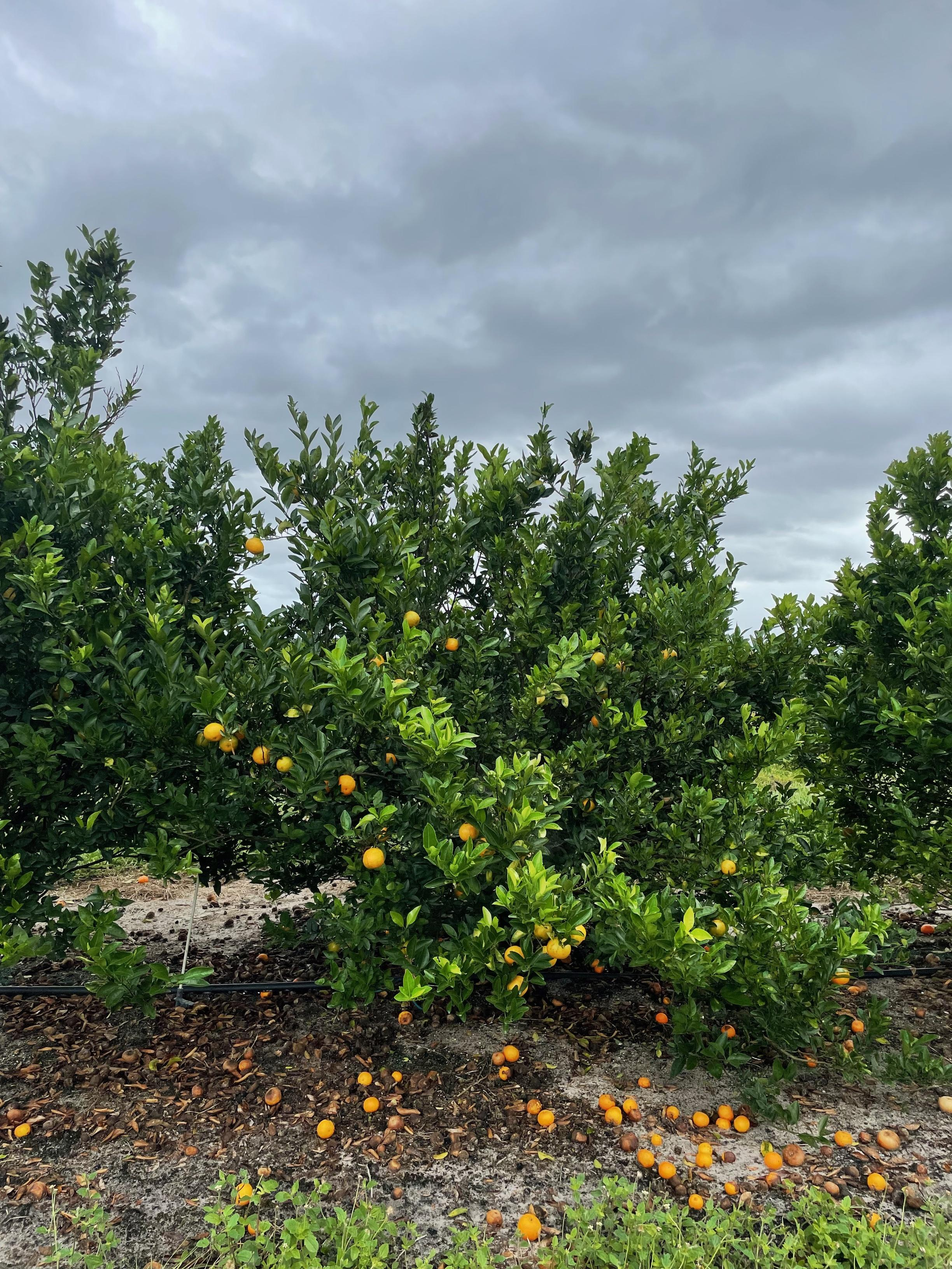fruit_on_ground: (360, 845, 387, 872), (545, 935, 572, 961), (47, 679, 72, 704), (456, 819, 481, 844), (504, 974, 530, 998), (473, 837, 500, 860), (502, 944, 527, 968), (334, 772, 358, 796), (203, 720, 227, 744), (565, 921, 588, 946), (364, 648, 388, 671), (250, 743, 273, 767), (531, 918, 554, 941), (217, 732, 240, 755), (273, 754, 297, 776), (192, 729, 215, 751), (707, 916, 729, 938), (829, 965, 852, 986), (400, 607, 423, 628), (656, 645, 680, 664), (379, 748, 400, 769), (244, 535, 265, 556), (577, 794, 598, 814), (718, 857, 739, 877), (588, 650, 609, 670), (228, 723, 248, 743), (442, 633, 462, 652), (588, 711, 607, 730), (284, 486, 303, 505), (609, 657, 628, 675), (325, 939, 341, 954), (840, 825, 855, 838)
fruit_on_tree: (515, 1211, 543, 1240), (231, 1181, 255, 1207), (875, 1127, 901, 1150), (314, 1117, 337, 1140), (782, 1144, 805, 1167), (262, 1084, 283, 1106), (866, 1172, 889, 1192), (864, 1211, 885, 1231), (833, 1127, 854, 1147), (361, 1095, 382, 1115), (11, 1120, 33, 1139), (619, 1132, 641, 1151), (597, 1092, 617, 1112), (484, 1207, 504, 1227), (655, 1158, 675, 1178), (6, 1106, 28, 1124), (536, 1109, 556, 1128), (718, 1021, 737, 1040), (690, 1108, 709, 1127), (733, 1114, 752, 1133), (637, 1147, 656, 1166), (763, 1151, 783, 1169), (695, 1150, 714, 1168), (525, 1096, 543, 1115), (396, 1009, 415, 1027), (502, 1044, 521, 1062), (118, 1047, 138, 1064), (386, 1114, 406, 1131), (604, 1108, 624, 1125), (355, 1069, 374, 1086), (822, 1179, 841, 1196), (495, 1065, 514, 1082), (716, 1103, 735, 1120), (936, 1093, 952, 1113), (646, 980, 664, 997), (687, 1192, 704, 1210), (242, 1220, 260, 1236), (696, 1140, 714, 1156), (236, 1057, 254, 1073), (621, 1097, 639, 1113), (490, 1049, 506, 1066), (720, 1150, 737, 1166), (663, 1104, 680, 1120), (714, 1117, 732, 1132), (852, 979, 871, 993), (190, 1083, 206, 1099), (764, 1171, 780, 1187), (572, 1129, 589, 1144), (653, 1010, 670, 1025), (850, 1019, 866, 1034), (627, 1108, 643, 1123), (649, 1131, 664, 1147), (636, 1075, 652, 1090), (725, 1180, 740, 1196), (51, 895, 68, 909), (919, 921, 936, 935), (183, 1143, 199, 1157), (841, 1038, 856, 1052), (924, 952, 940, 965), (390, 1068, 404, 1082), (391, 1185, 405, 1199), (659, 994, 674, 1007), (136, 872, 151, 885), (805, 1055, 819, 1068), (257, 950, 271, 963), (550, 995, 565, 1007), (257, 988, 272, 1000), (587, 957, 601, 968), (847, 984, 861, 995), (204, 891, 217, 902), (914, 1007, 927, 1018), (593, 963, 606, 974)
